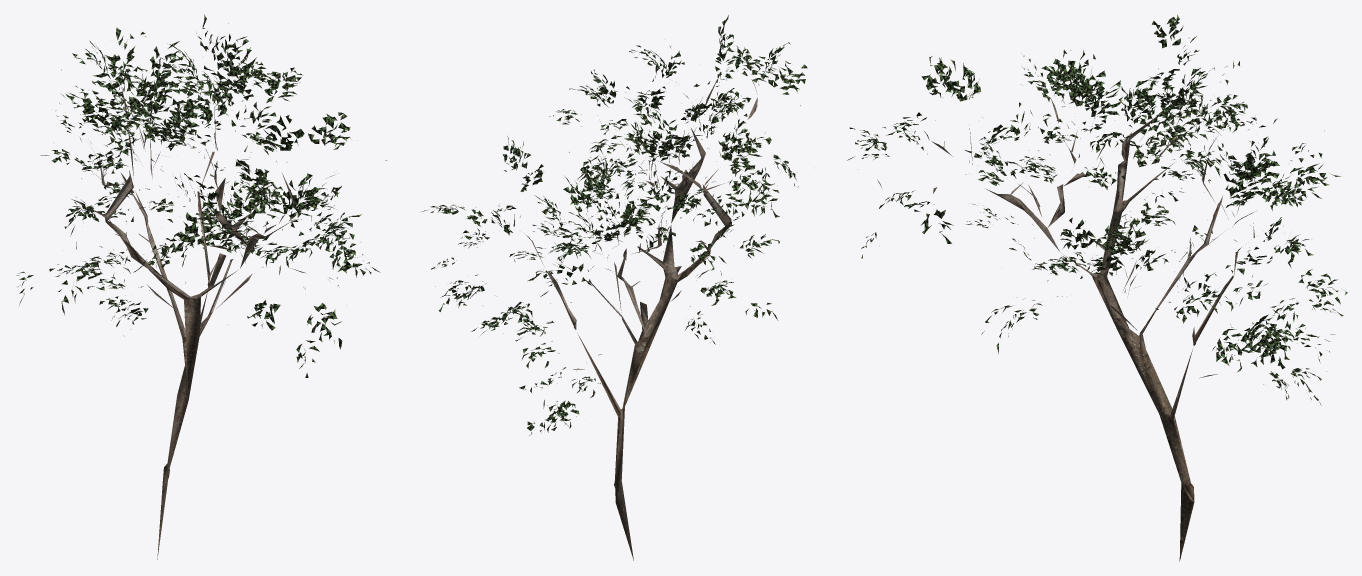
Rendered from tree_small_02.glb.
The picture shows the model from 3 angles, left to right: view 1: azimuth 30°, elevation 25°; view 2: azimuth 150°, elevation 25°; view 3: azimuth 270°, elevation 25°; orthographic projection. The views are drawn at different scales.
Parts seen in each view (by area): view 1: tree_small_02_LOD0; view 2: tree_small_02_LOD0; view 3: tree_small_02_LOD0.
Boxes of the visible parts, x1,y1,x2,y2 form: tree_small_02_LOD0: [16, 14, 386, 559]; tree_small_02_LOD0: [421, 15, 807, 560]; tree_small_02_LOD0: [847, 14, 1347, 561].
Bounding box in the file's own units: 2.87 × 4.54 × 4.01.
3 materials, 3 textured.
